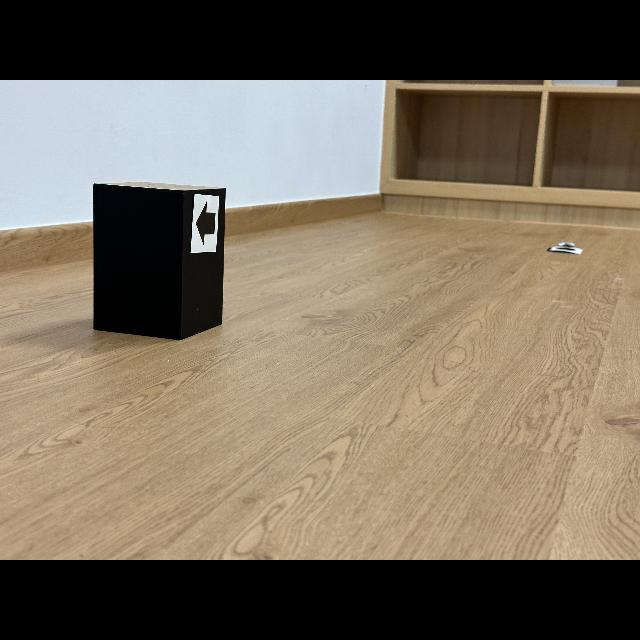LEFT: (196, 204, 216, 244)
